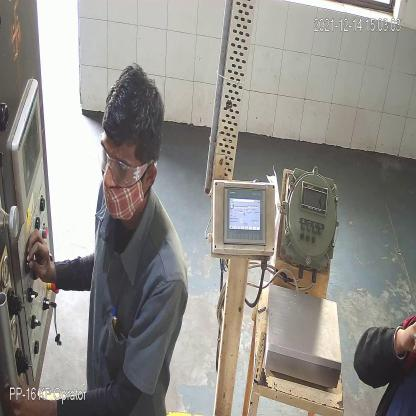goggles: (92, 145, 144, 186)
